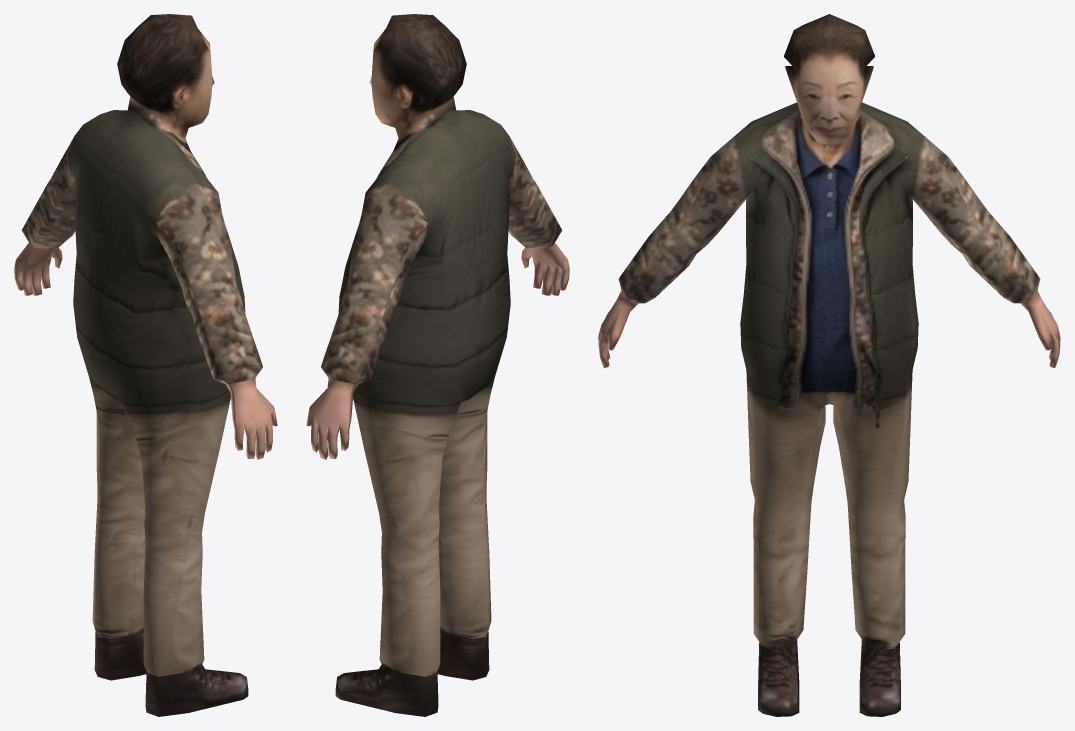
File: Character_43_Female.fbx
The picture shows the model from 3 angles, left to right: view 1: azimuth 30°, elevation 25°; view 2: azimuth 150°, elevation 25°; view 3: azimuth 270°, elevation 25°; orthographic projection.
Visible parts, largest first — view 1: Character_Male_33.010; view 2: Character_Male_33.010; view 3: Character_Male_33.010.
Boxes of the visible parts, x1,y1,x2,y2 form: Character_Male_33.010: (14, 14, 277, 716); Character_Male_33.010: (306, 14, 569, 716); Character_Male_33.010: (598, 14, 1060, 716).
Bounding box in the file's own units: 0.3108 × 1.51 × 0.9385.
